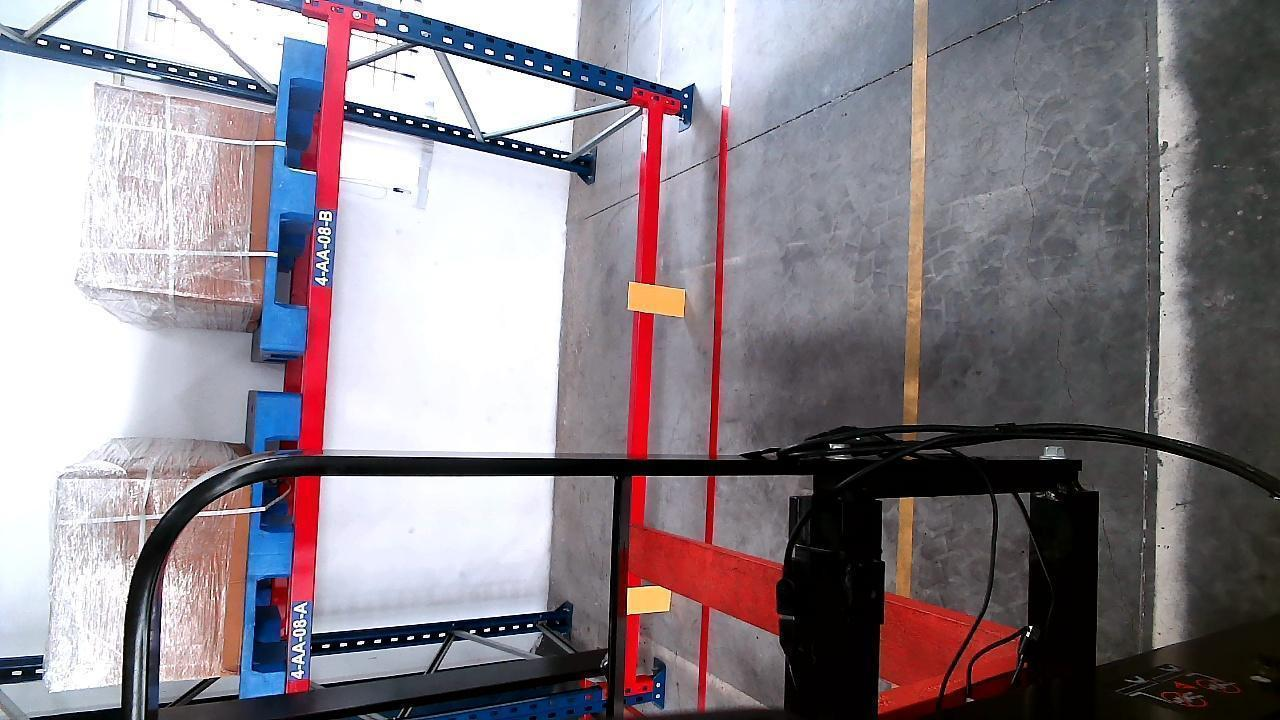red_line: (696, 78, 736, 706)
yellow_line: (904, 0, 930, 428)
